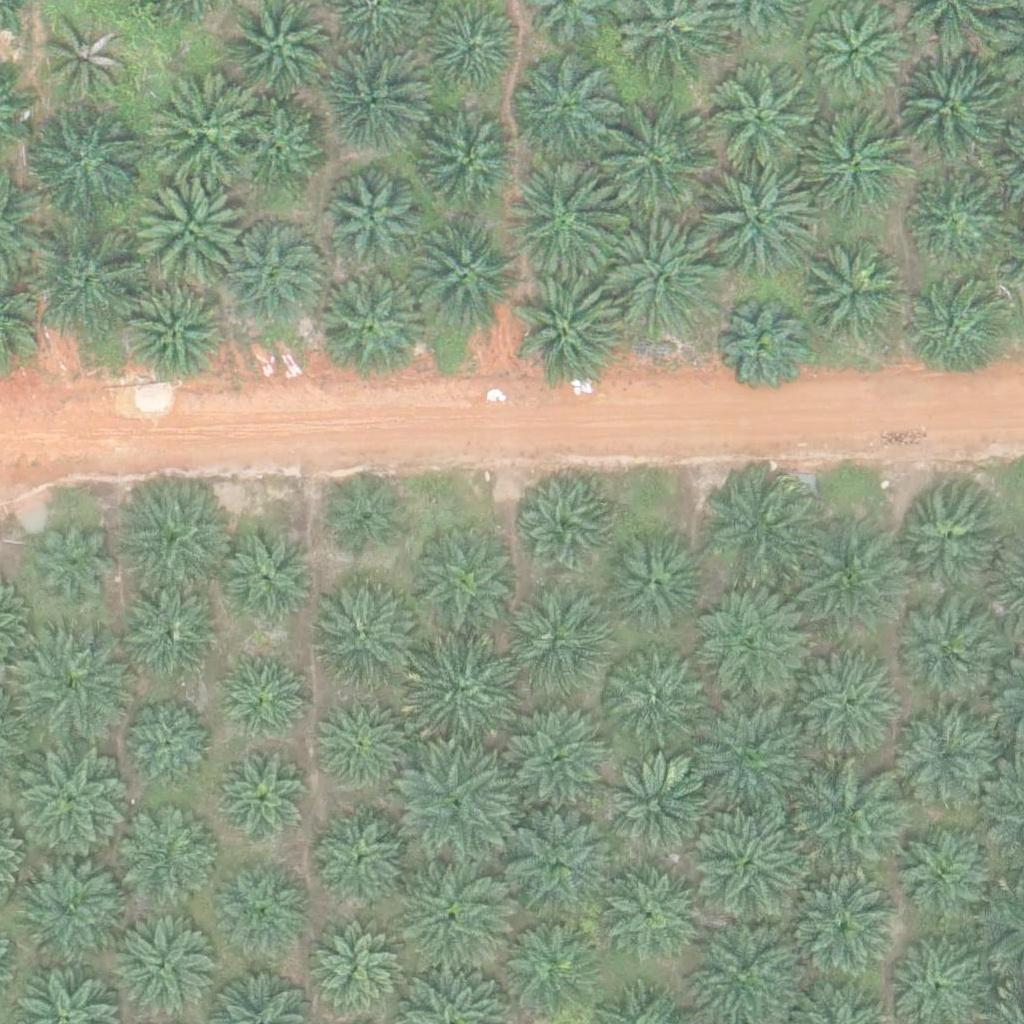Kelapa_Sawit: (17, 747, 130, 861), (782, 870, 895, 984), (895, 49, 1008, 163), (605, 226, 718, 340), (502, 166, 615, 280), (318, 267, 431, 381), (405, 219, 518, 333), (17, 632, 130, 745), (892, 591, 1005, 704), (785, 527, 898, 640), (786, 648, 899, 761), (699, 476, 812, 589), (692, 593, 805, 706), (696, 808, 809, 921), (689, 910, 802, 1023), (399, 753, 512, 866), (394, 860, 507, 973), (300, 580, 413, 693), (797, 107, 910, 220), (707, 68, 820, 181), (317, 46, 430, 159), (17, 851, 129, 965), (890, 481, 1002, 595), (405, 525, 517, 639), (117, 474, 229, 588), (509, 50, 621, 164), (801, 760, 913, 873), (694, 704, 806, 817), (605, 755, 717, 868), (504, 804, 616, 917), (404, 640, 516, 753), (200, 858, 312, 971), (107, 805, 219, 918), (799, 244, 911, 357), (709, 165, 821, 278), (598, 100, 710, 213), (514, 277, 626, 390), (145, 73, 257, 186), (132, 171, 244, 284), (34, 226, 146, 339), (30, 105, 142, 218), (898, 714, 998, 815), (608, 528, 708, 629), (607, 657, 707, 758), (600, 866, 700, 967), (499, 918, 599, 1019), (509, 705, 609, 806), (305, 915, 405, 1016), (314, 810, 414, 911), (215, 747, 315, 848), (119, 586, 219, 687), (907, 173, 1007, 274), (904, 282, 1004, 383), (804, 5, 904, 106), (323, 176, 423, 277), (224, 220, 324, 321), (892, 829, 992, 929), (502, 592, 602, 692), (513, 475, 613, 575), (211, 645, 311, 745), (218, 521, 318, 621), (424, 1, 524, 101), (420, 117, 520, 217), (123, 283, 223, 383), (322, 471, 410, 559), (315, 699, 403, 787), (234, 104, 322, 192), (34, 519, 121, 607), (129, 704, 216, 792), (717, 306, 804, 394), (44, 17, 131, 105)
